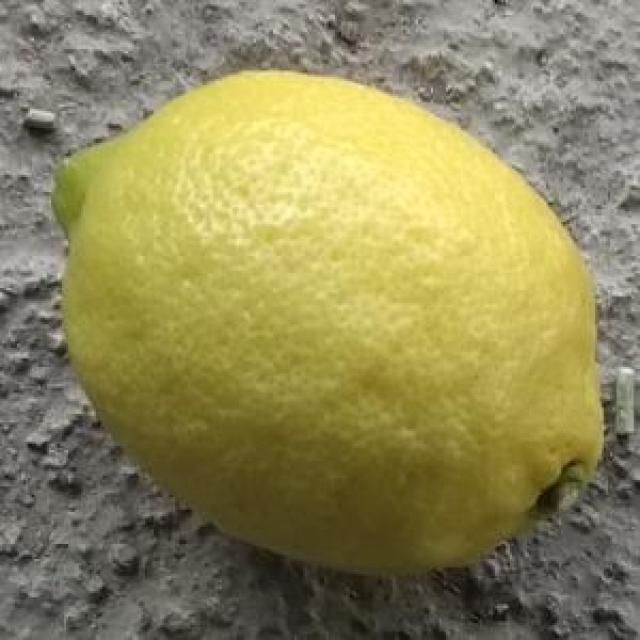lemon: (55, 70, 604, 572)
